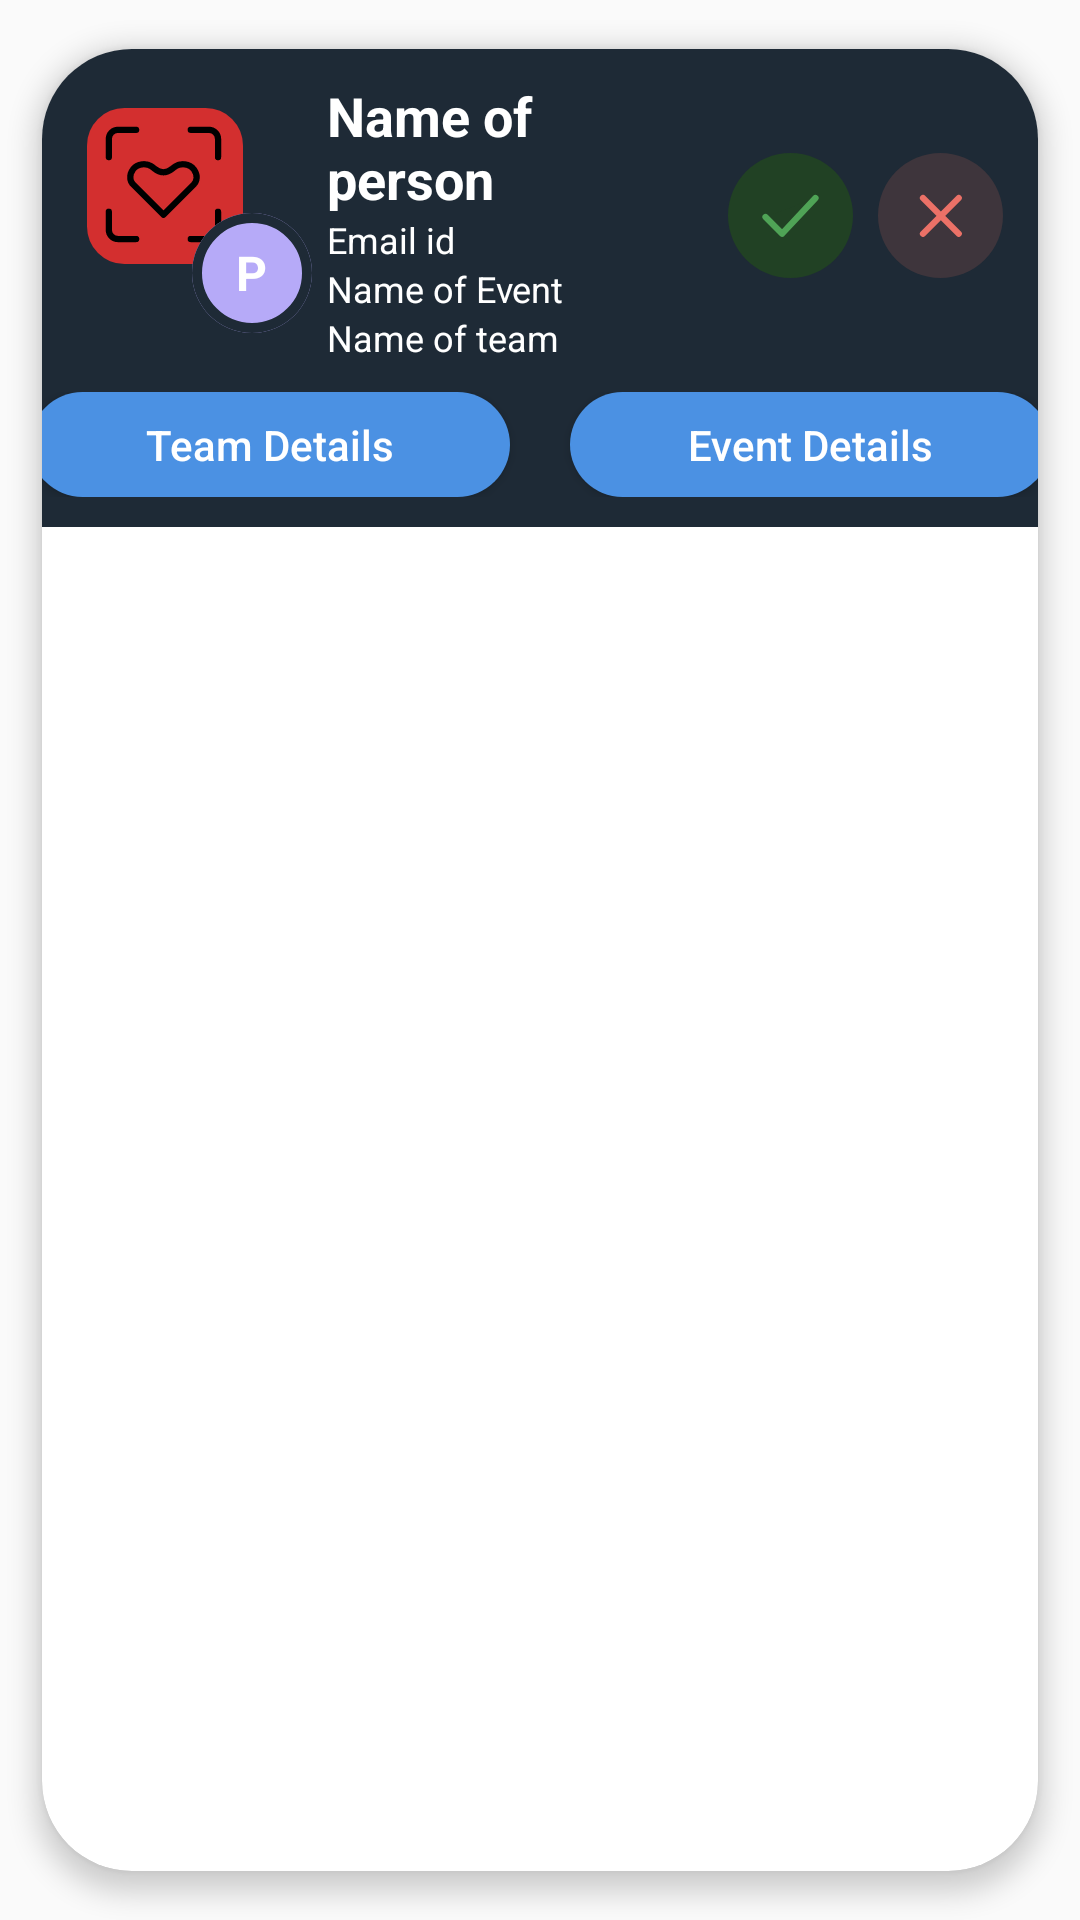

Where icons sit on this 1080 × 1920 app screen, as (x1, y1, x2, y2):
acceptrequest: (728, 153, 853, 278)
healthtech: (87, 108, 243, 264)
rejectrequest: (878, 153, 1003, 278)
